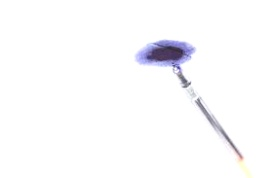ink: (137, 44, 195, 64)
